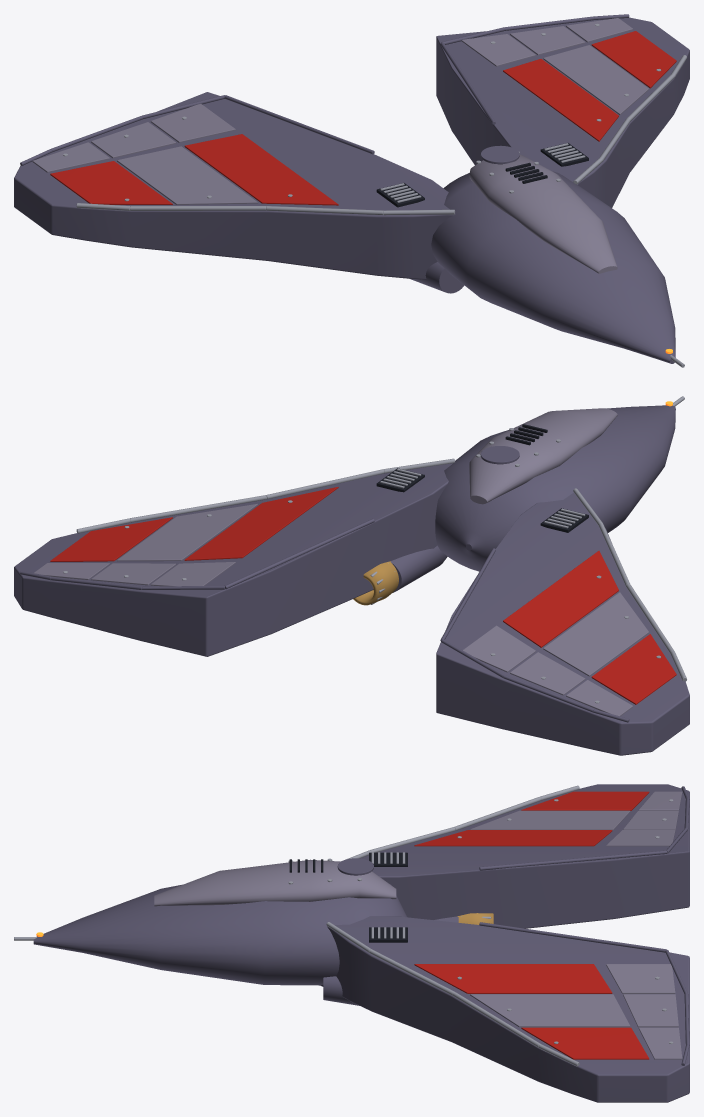
3 renders of one model, top to bottom at view 1: azimuth 30°, elevation 25°; view 2: azimuth 150°, elevation 25°; view 3: azimuth 270°, elevation 25°, orthographic. The views are drawn at different scales.
Parts seen in each view (by area): view 1: HullPartialBatch_00, HullFinalBatch_01, HullFinalBatch_03, HullPartialBatch_02, HullPartialBatch_04, HullFinalBatch_12, HullFinalBatch_06, HullPartialBatch_05, HullFinalBatch_08; view 2: HullFinalBatch_01, HullPartialBatch_00, HullFinalBatch_03, HullPartialBatch_02, HullPartialBatch_04, HullFinalBatch_12, HullFinalBatch_06, HullFinalBatch_08, HullPartialBatch_05, HullFinalBatch_07; view 3: HullFinalBatch_01, HullPartialBatch_00, HullFinalBatch_03, HullFinalBatch_12, HullPartialBatch_02, HullPartialBatch_04, HullFinalBatch_06, HullPartialBatch_05, HullFinalBatch_08.
Part boxes in pixels (box(x1,y1,x2,y2)): HullPartialBatch_00: box(14, 92, 675, 363); HullFinalBatch_01: box(233, 14, 689, 324); HullFinalBatch_03: box(461, 18, 648, 241); HullPartialBatch_02: box(32, 104, 617, 273); HullPartialBatch_04: box(50, 134, 338, 205); HullFinalBatch_12: box(503, 31, 676, 141); HullFinalBatch_06: box(381, 23, 686, 214); HullPartialBatch_05: box(63, 116, 684, 367); HullFinalBatch_08: box(377, 143, 588, 207); HullFinalBatch_01: box(14, 422, 665, 656); HullPartialBatch_00: box(436, 405, 689, 755); HullFinalBatch_03: box(34, 410, 603, 586); HullPartialBatch_02: box(463, 408, 648, 716); HullPartialBatch_04: box(503, 550, 676, 704); HullFinalBatch_12: box(50, 487, 338, 561); HullFinalBatch_06: box(63, 428, 598, 604); HullFinalBatch_08: box(376, 424, 587, 532); HullPartialBatch_05: box(490, 396, 686, 703); HullFinalBatch_07: box(353, 561, 398, 605); HullFinalBatch_01: box(161, 852, 689, 1102); HullPartialBatch_00: box(33, 784, 689, 981); HullFinalBatch_03: box(219, 859, 682, 1059); HullFinalBatch_12: box(414, 964, 649, 1059); HullPartialBatch_02: box(154, 791, 682, 906); HullPartialBatch_04: box(414, 791, 649, 846); HullFinalBatch_06: box(288, 852, 673, 1066); HullPartialBatch_05: box(14, 785, 673, 940); HullFinalBatch_08: box(289, 852, 407, 942).
Size of the model in its own units: 5.3 by 0.958 by 5.2.
